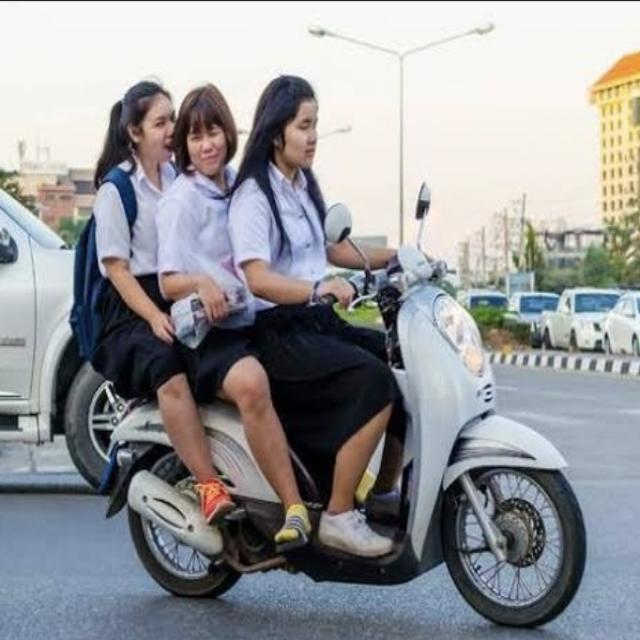WithoutHelmet: (230, 70, 396, 559), (153, 84, 312, 547), (92, 76, 234, 525)
